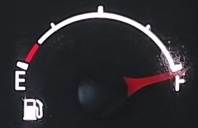oil_pose: (24, 64, 182, 116)
